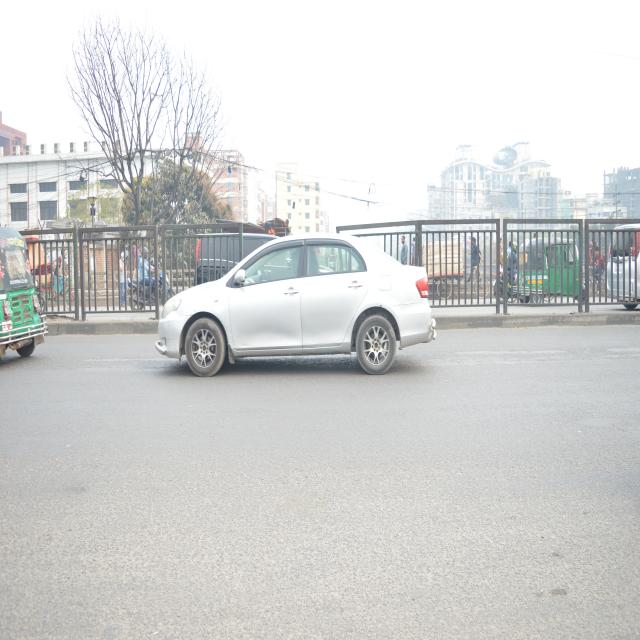car: (160, 234, 434, 387)
microbus: (605, 220, 640, 312)
motorbike: (126, 256, 173, 315), (489, 266, 517, 302)
